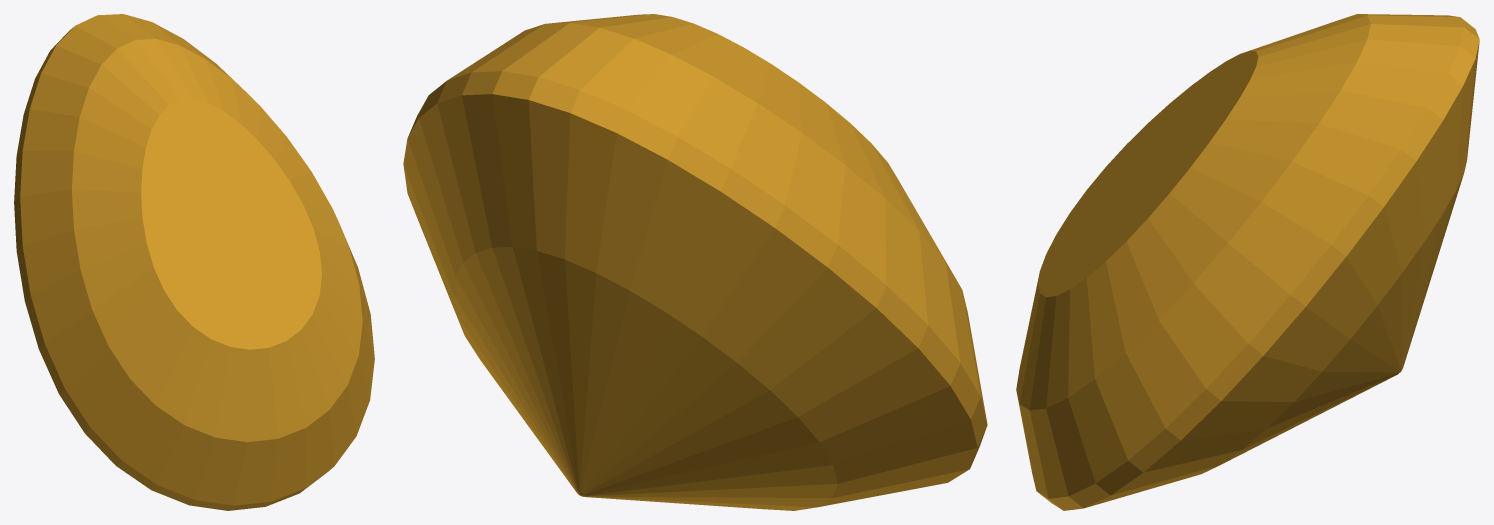
Rendered from citrine.glb.
3 renders of one model, left to right at view 1: azimuth 30°, elevation 25°; view 2: azimuth 150°, elevation 25°; view 3: azimuth 270°, elevation 25°, orthographic. The views are drawn at different scales.
Parts seen in each view (by area): view 1: citrine; view 2: citrine; view 3: citrine.
Boxes of the visible parts, x1,y1,x2,y2 form: citrine: [14, 14, 374, 510]; citrine: [403, 14, 987, 510]; citrine: [1016, 14, 1479, 510].
Size of the model in its own units: 1.57 by 1.78 by 1.62.
